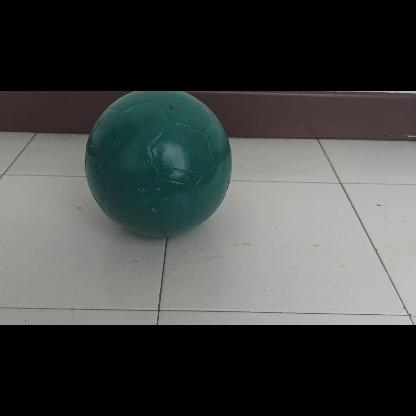green_ball: (82, 91, 232, 237)
